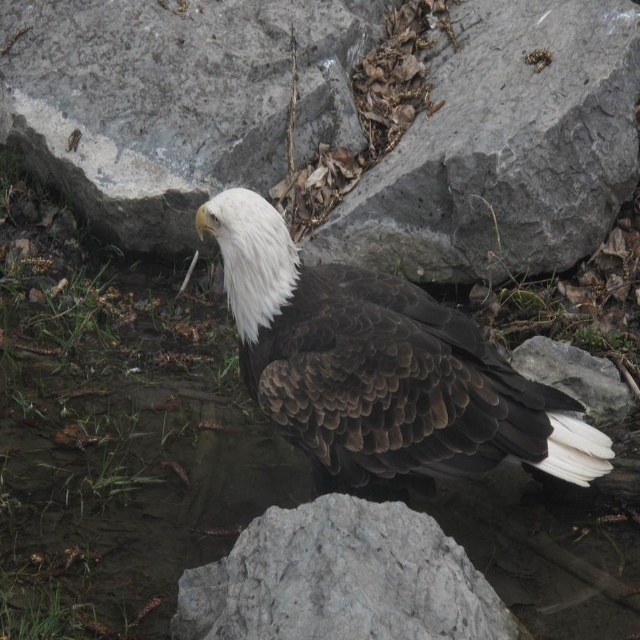Eagle: (192, 183, 640, 493)
